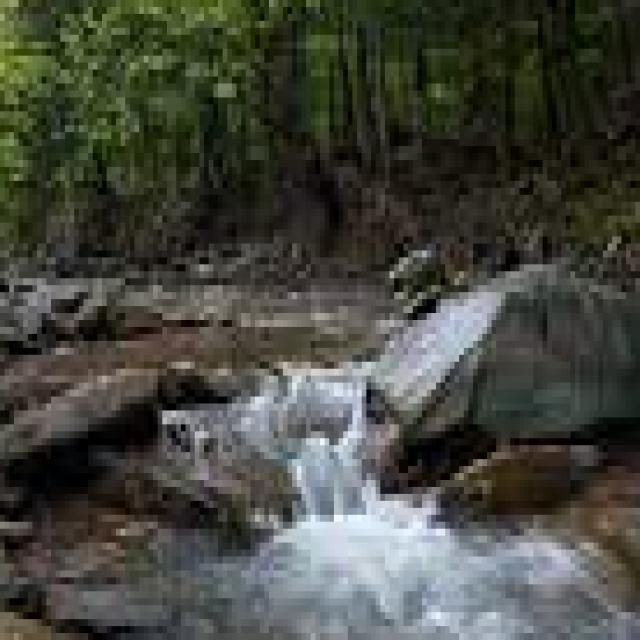-: (334, 577, 631, 640), (282, 352, 346, 506)
